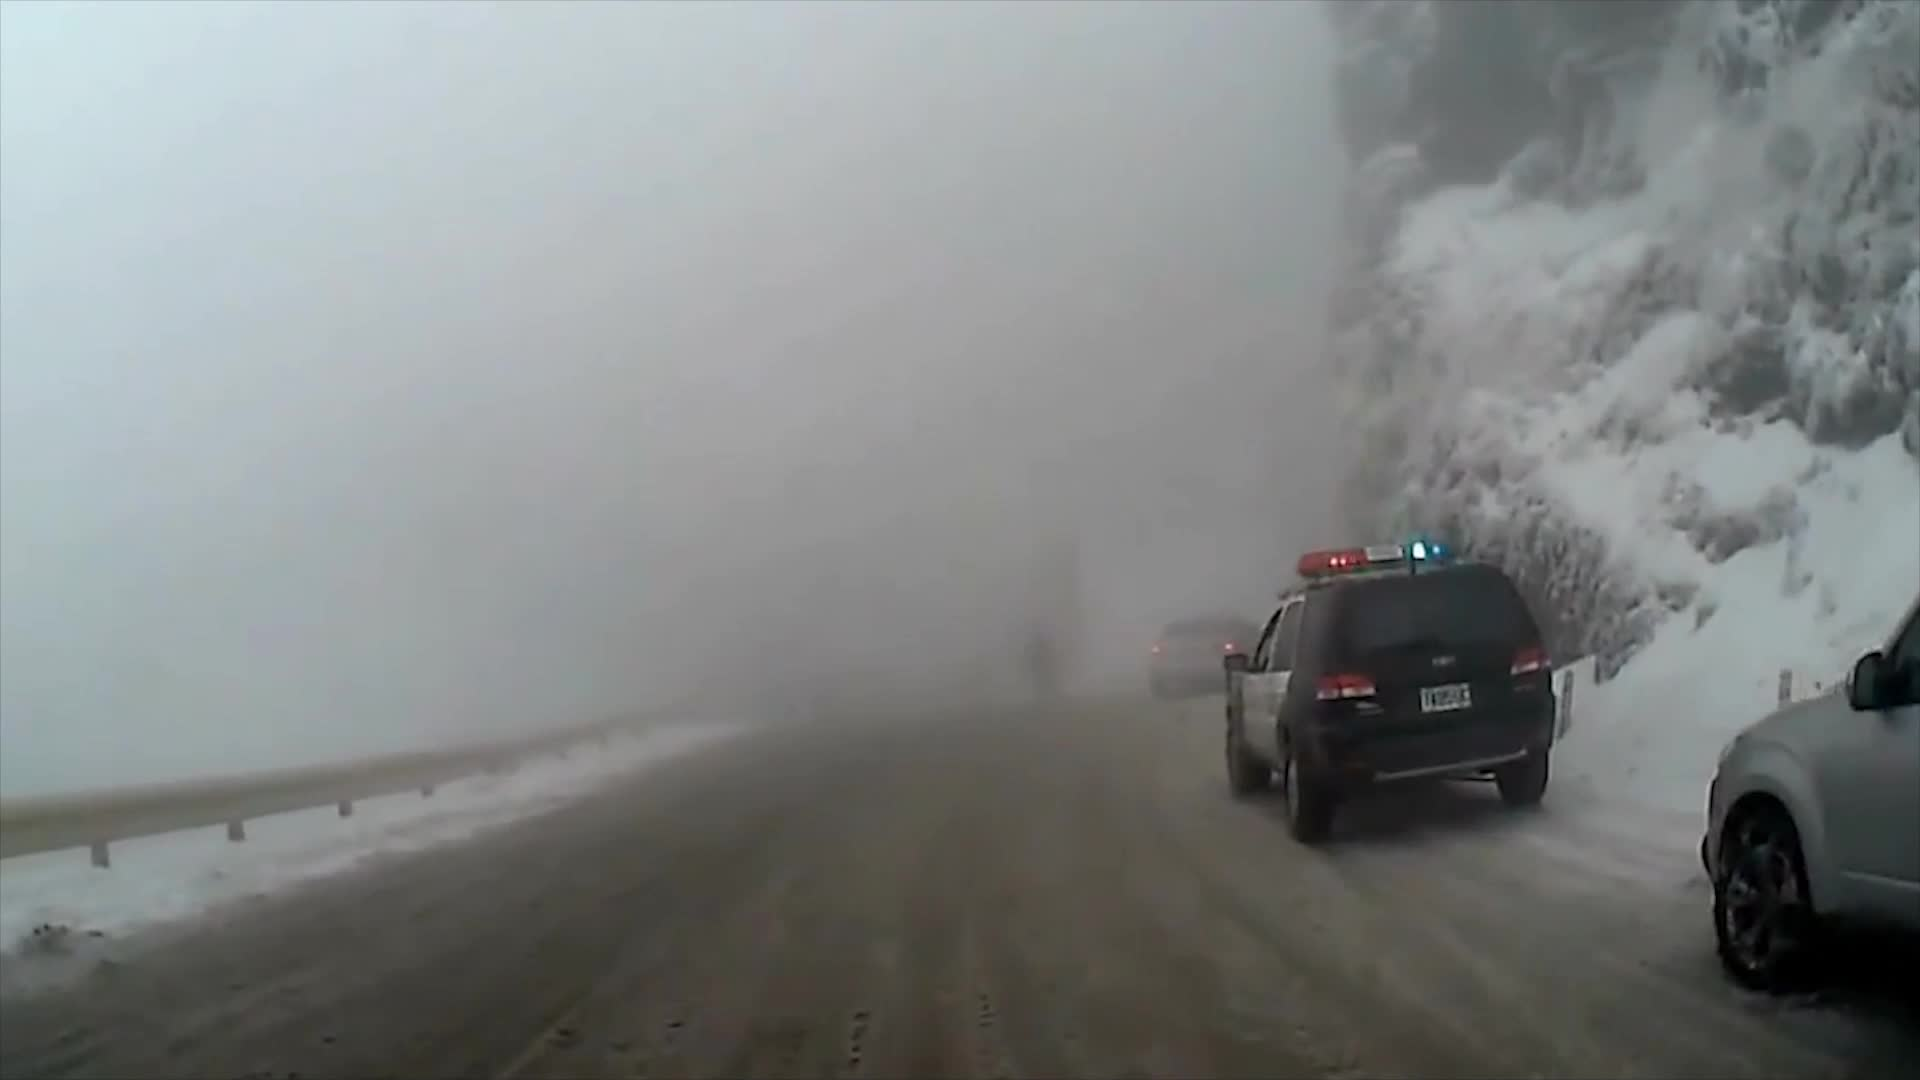vehicle: (1222, 531, 1560, 847), (1698, 589, 1920, 992), (1146, 618, 1265, 707)
